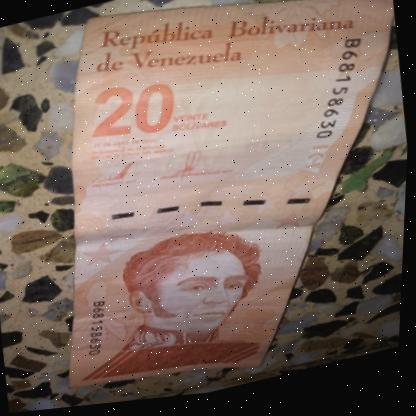twenty-front-vef: (19, 0, 416, 413)
